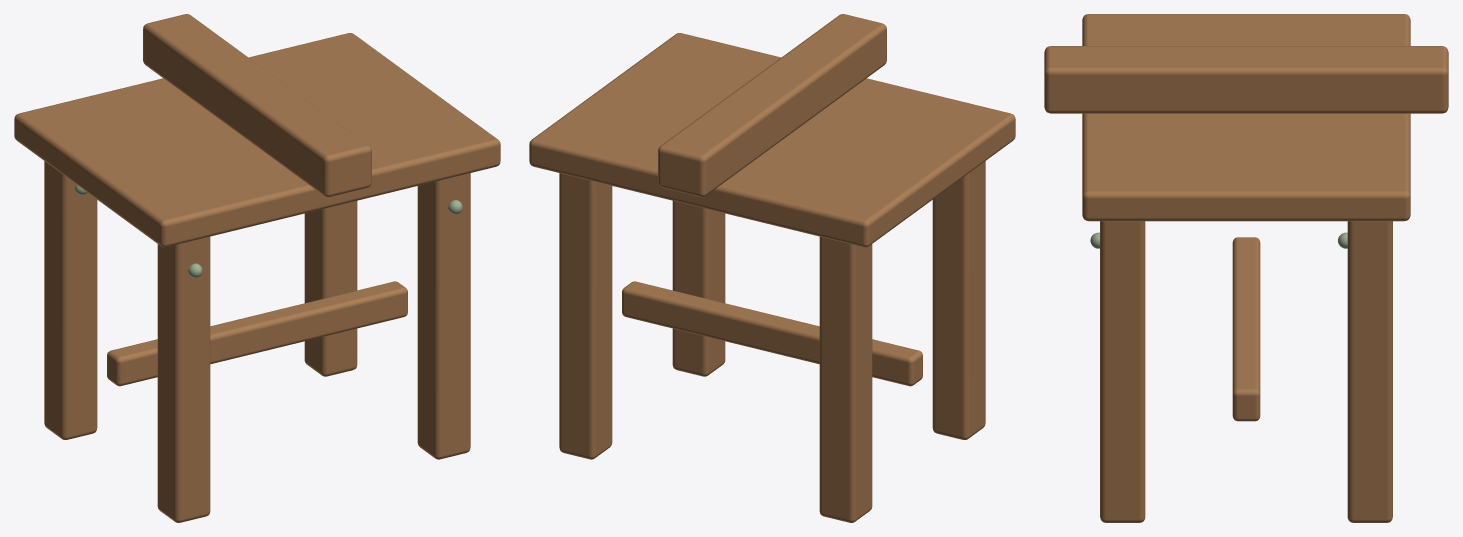
Rendered from desert-caravanserai-and-bazaar-saddle-stand-dd8cbbed__30456.glb.
3 renders of one model, left to right at view 1: azimuth 30°, elevation 25°; view 2: azimuth 150°, elevation 25°; view 3: azimuth 270°, elevation 25°, orthographic. The views are drawn at different scales.
Parts seen in each view (by area): view 1: saddle-stand; view 2: saddle-stand; view 3: saddle-stand.
Boxes of the visible parts, x1,y1,x2,y2 form: saddle-stand: (14, 14, 500, 522); saddle-stand: (529, 14, 1015, 522); saddle-stand: (1044, 14, 1448, 522).
Bounding box in the file's own units: 0.85 × 0.85 × 0.8.
